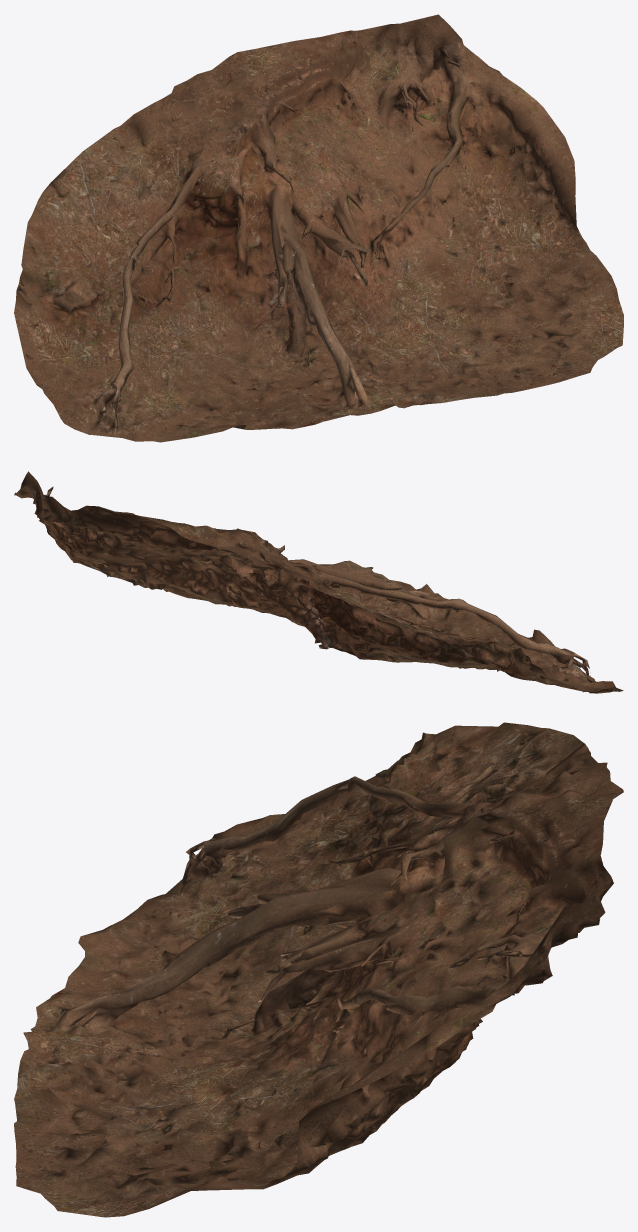
The model's file is root_cluster_01.glb.
3 views of the same model, one above another, from view 1: azimuth 30°, elevation 25°; view 2: azimuth 150°, elevation 25°; view 3: azimuth 270°, elevation 25° (orthographic). The views are drawn at different scales.
Size of the model in its own units: 4.12 by 1.51 by 2.68.
1 material, 1 textured.
